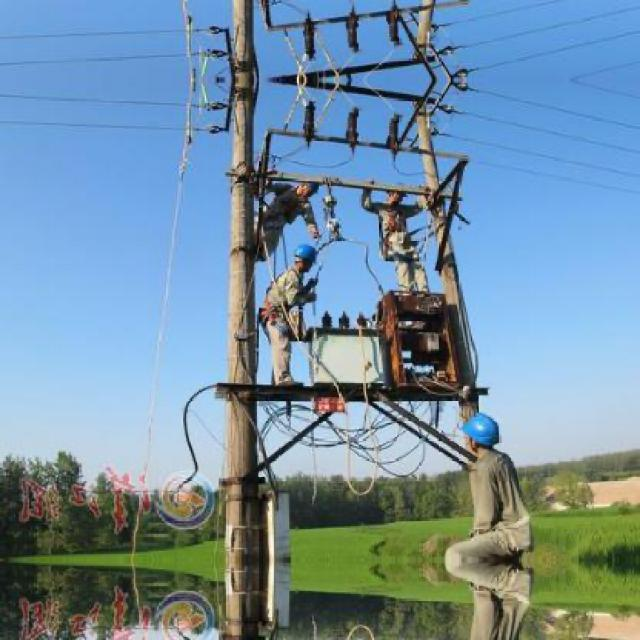2: (446, 412, 529, 558), (260, 244, 326, 384), (363, 180, 429, 294), (250, 174, 328, 258), (445, 562, 529, 638)
helmet: (463, 412, 506, 456), (290, 242, 318, 269), (296, 178, 322, 198)
